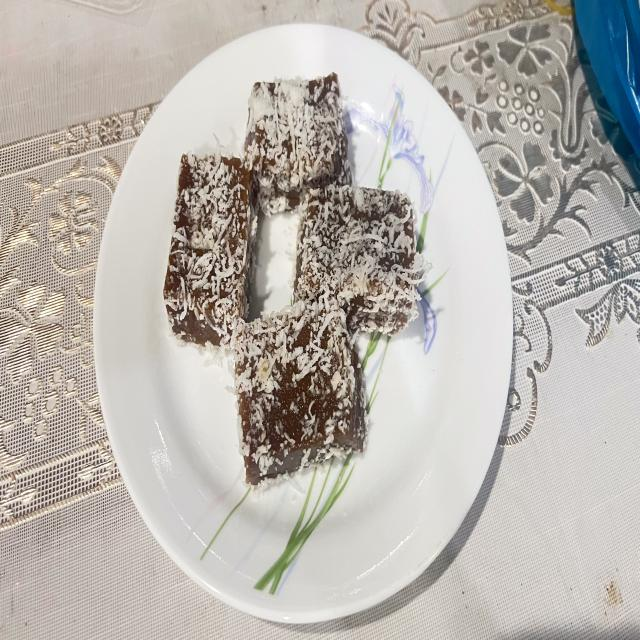kaswi: (232, 298, 366, 487), (294, 184, 428, 336), (164, 153, 251, 347), (245, 73, 351, 216)
